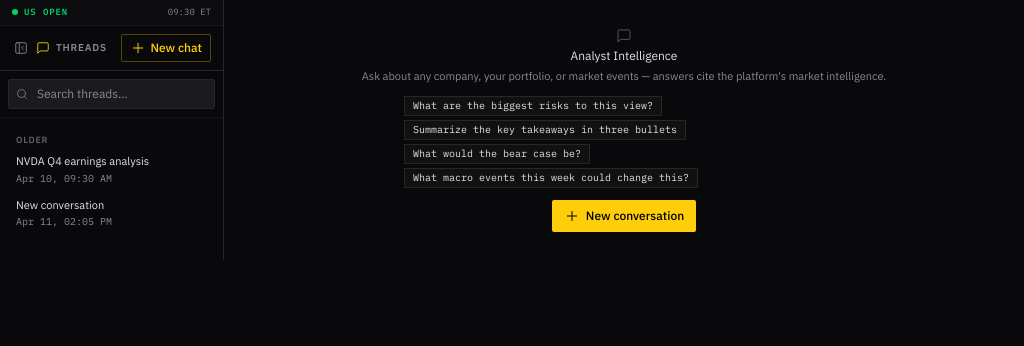
Test: Chat page — message input › Send button is enabled when input has text
Click the button with aria-label "start new chat". click: (166, 48)
box: x1=121 y1=34 x2=211 y2=62
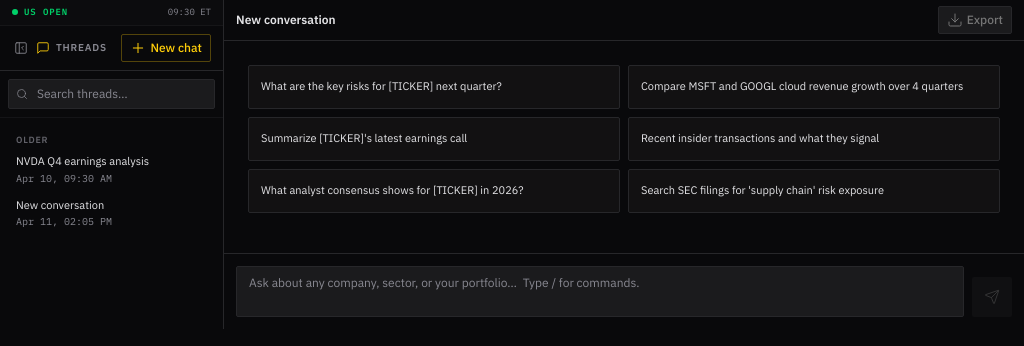
Expected: the text box named "chat message input" is shown
Replace the text in the text box named "chat message input" with "What is NVDA's P/E ratio?". click: (600, 291)
box: x1=236 y1=266 x2=964 y2=317
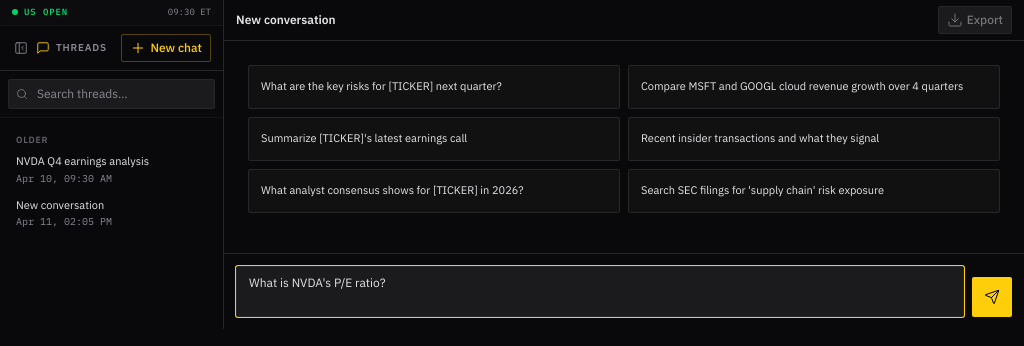
Expected: the button named "send message" is enabled, x1=972 y1=277 x2=1012 y2=317
